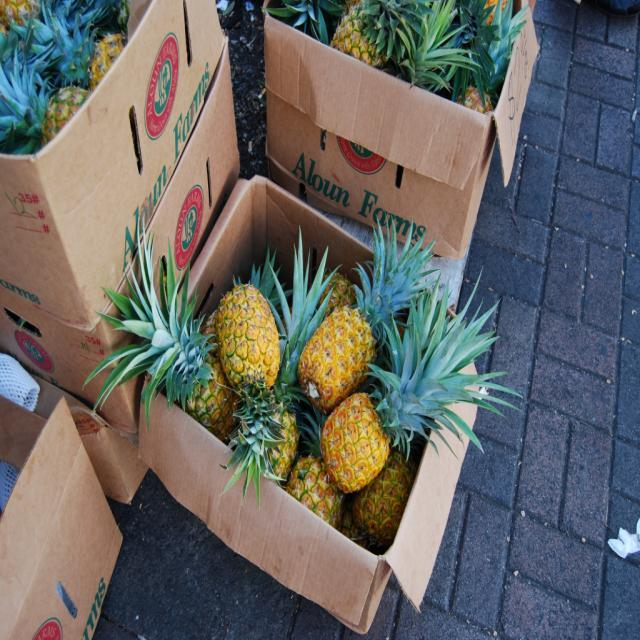Non_Gorille: (3, 0, 640, 640)
